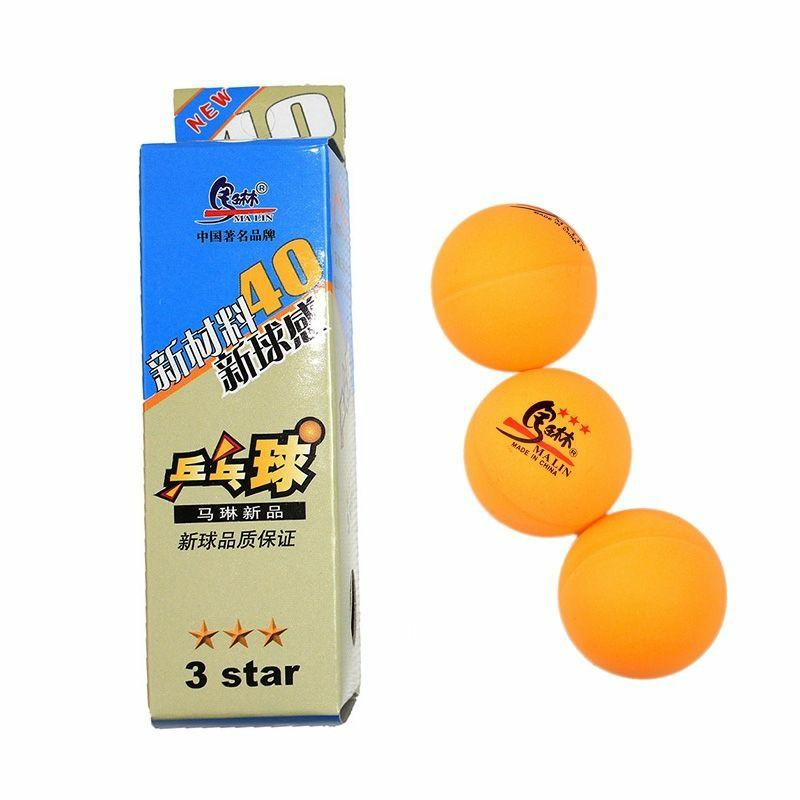ball: (422, 196, 604, 378), (457, 365, 637, 542), (554, 505, 730, 683)
